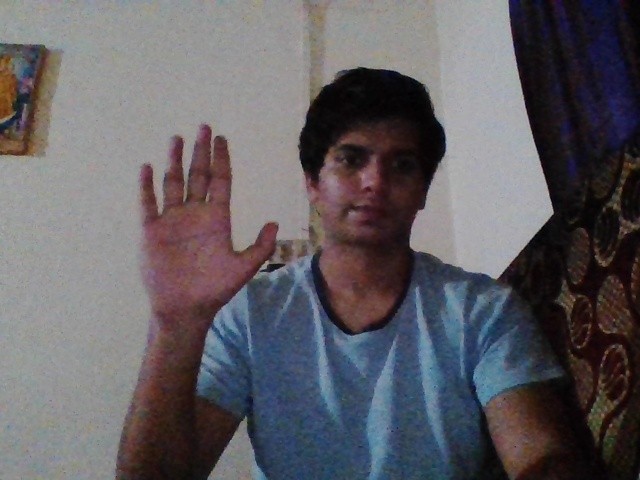hello: (123, 118, 282, 325)
